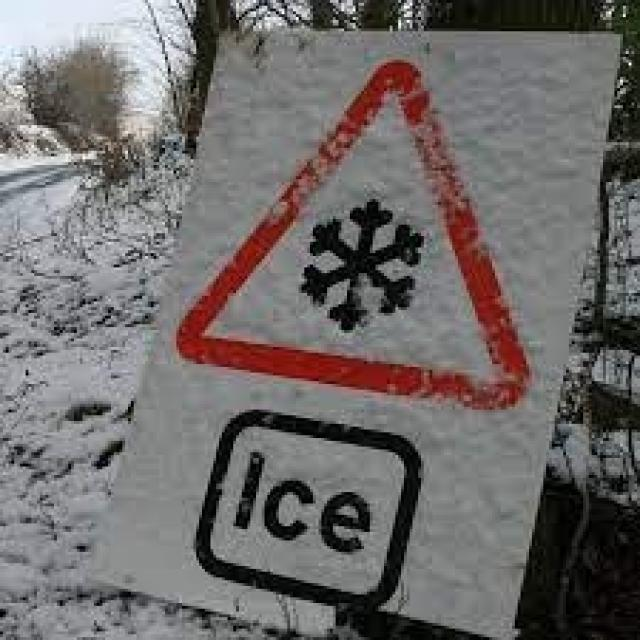snow_warning: (178, 59, 550, 418)
